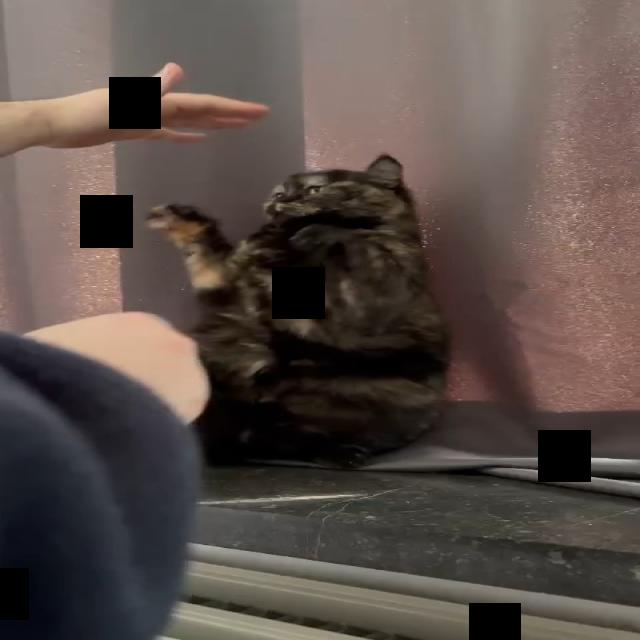authorized: (144, 153, 452, 470)
